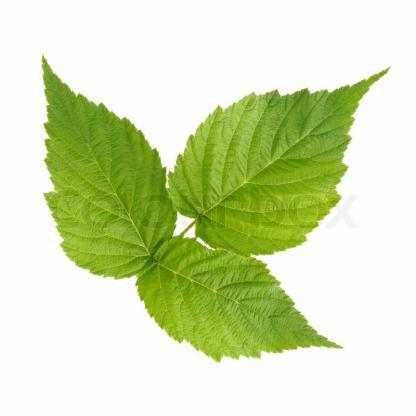Raspberry leaf: (164, 62, 399, 262), (34, 52, 180, 283), (135, 232, 348, 365)
